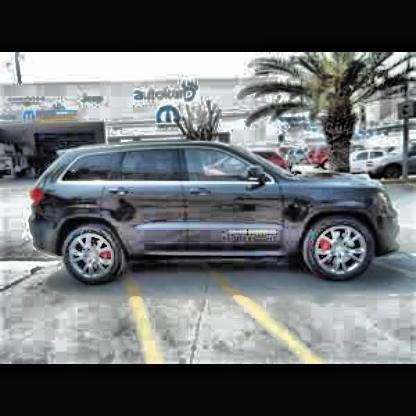Jeep Grand Cherokee SUV 2012: (30, 141, 401, 289)
